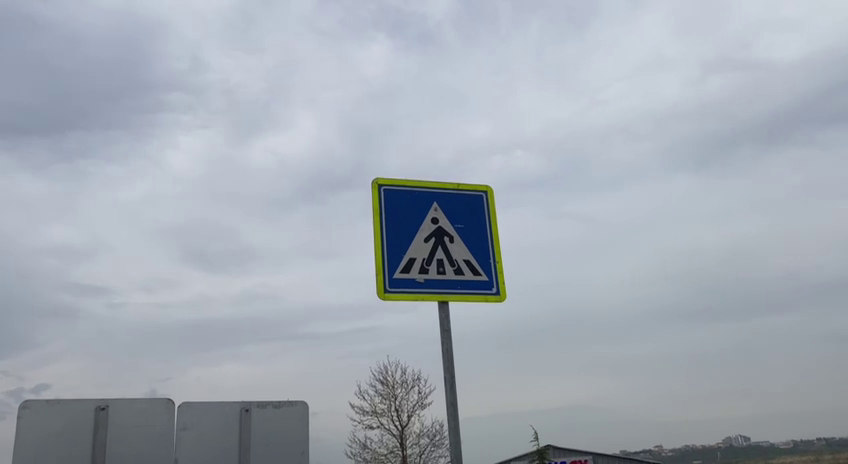pedestrianCrossing: (368, 173, 508, 305)
